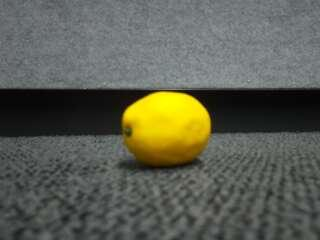lemon: (123, 91, 211, 167)
